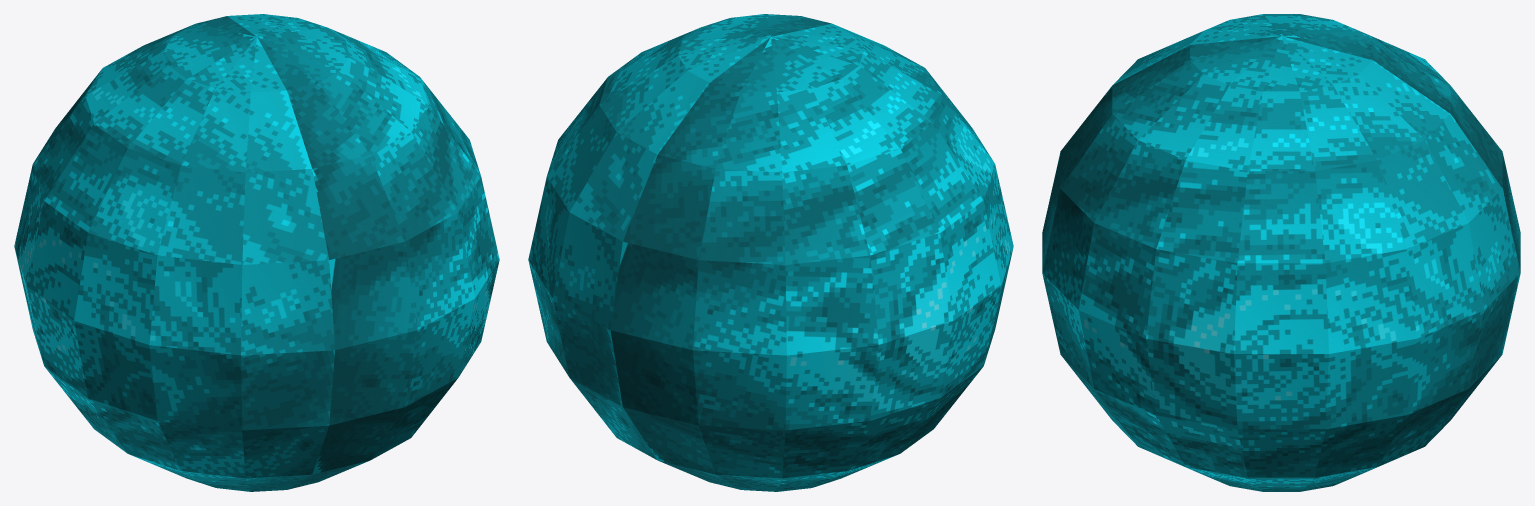
Rendered from Planet3.fbx.
The picture shows the model from 3 angles, left to right: view 1: azimuth 30°, elevation 25°; view 2: azimuth 150°, elevation 25°; view 3: azimuth 270°, elevation 25°; orthographic projection.
Parts seen in each view (by area): view 1: LVL2; view 2: LVL2; view 3: LVL2.
Boxes of the visible parts, x1,y1,x2,y2 form: LVL2: (14, 14, 499, 491); LVL2: (528, 14, 1013, 491); LVL2: (1042, 14, 1520, 491).
Size of the model in its own units: 2500 by 2500 by 2500.
Materials: 1 (1 with a texture image).
